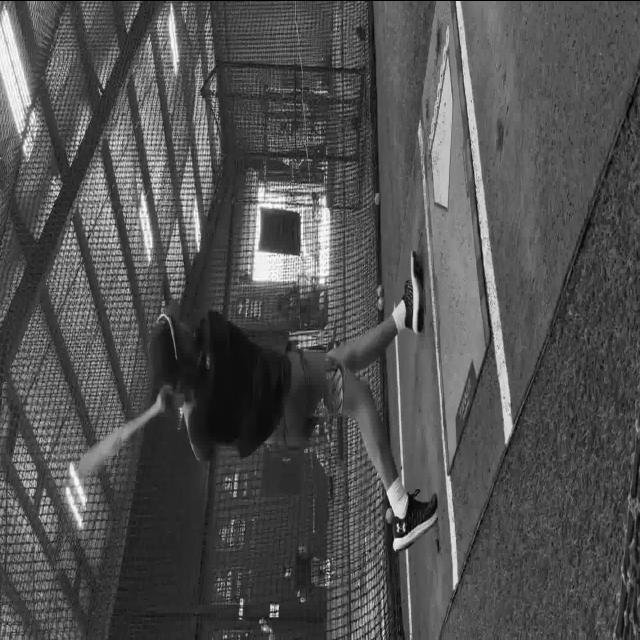base: (428, 58, 454, 206)
baseball: (385, 507, 394, 524), (374, 193, 380, 205), (377, 285, 383, 297), (378, 296, 383, 310)
bat: (77, 388, 170, 478)
shoe: (386, 489, 438, 552), (402, 250, 424, 334)
